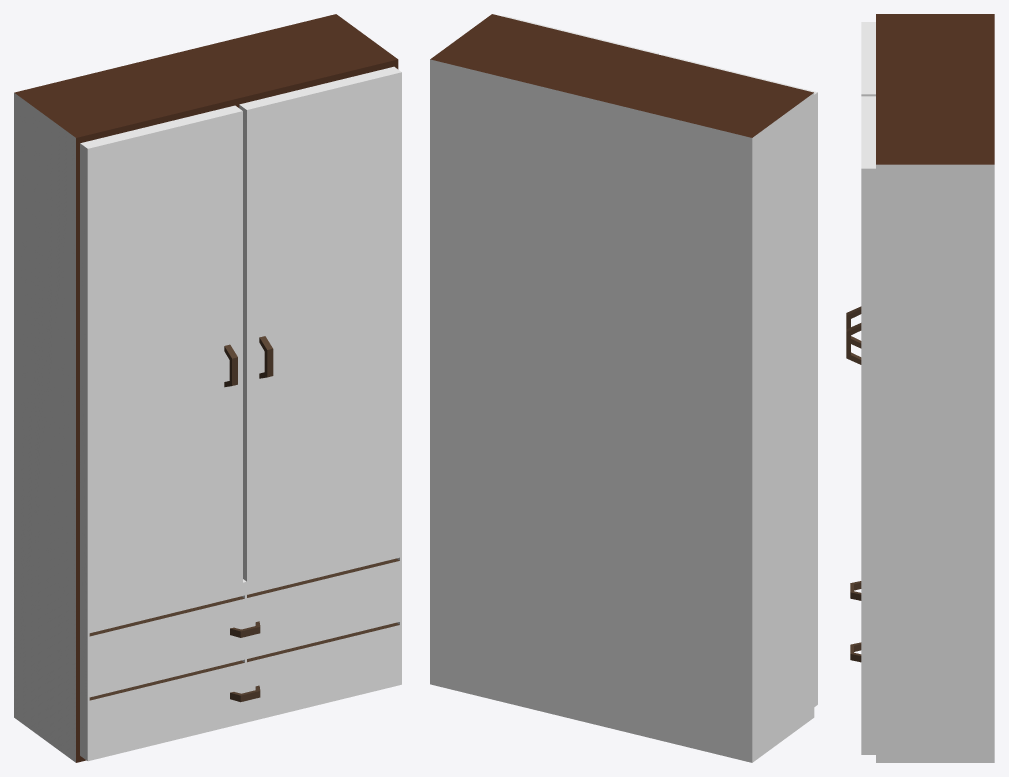
The model's file is WardRobe_2A.fbx.
The picture shows the model from 3 angles, left to right: view 1: azimuth 30°, elevation 25°; view 2: azimuth 150°, elevation 25°; view 3: azimuth 270°, elevation 25°; orthographic projection. The views are drawn at different scales.
Parts seen in each view (by area): view 1: polySurface2334; view 2: polySurface2334; view 3: polySurface2334.
Boxes of the visible parts, bbox=[...] form: polySurface2334: bbox=[14, 14, 401, 762]; polySurface2334: bbox=[430, 14, 817, 762]; polySurface2334: bbox=[846, 14, 994, 762].
Size of the model in its own units: 1.83 by 3.4 by 0.7641.
1 material, 1 textured.
